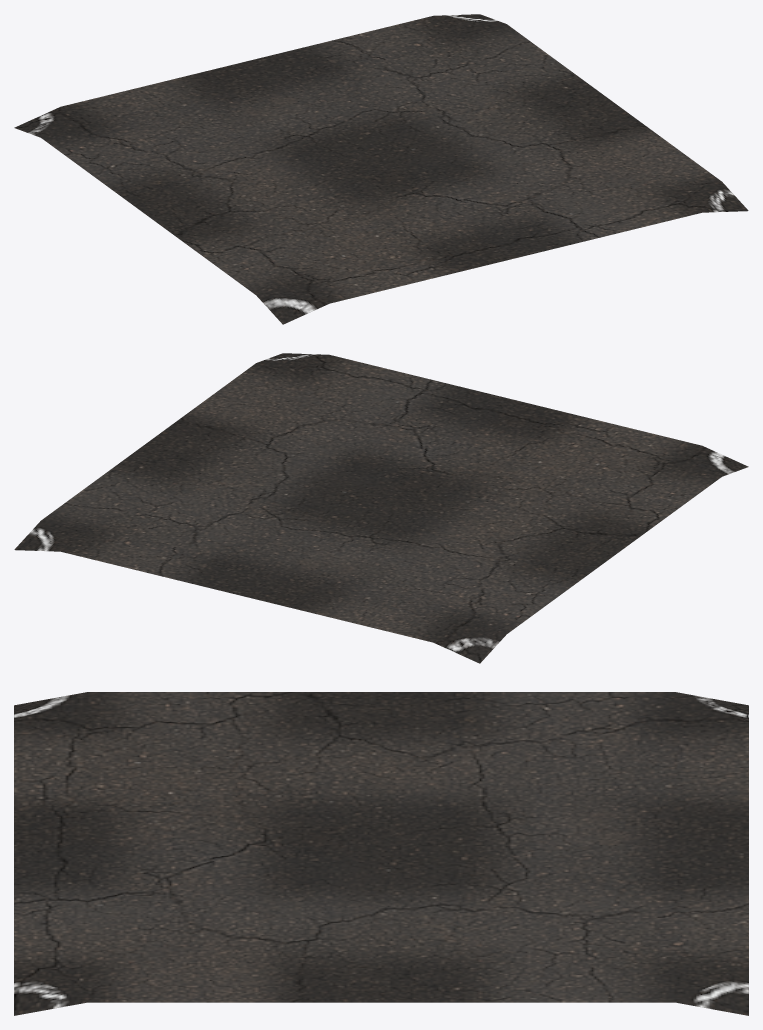
The model's file is Road_05.glb.
The picture shows the model from 3 angles, top to bottom: view 1: azimuth 30°, elevation 25°; view 2: azimuth 150°, elevation 25°; view 3: azimuth 270°, elevation 25°; orthographic projection. The views are drawn at different scales.
Parts seen in each view (by area): view 1: Road_05.001; view 2: Road_05.001; view 3: Road_05.001.
Boxes of the visible parts, x1=… form: Road_05.001: x1=14, y1=14, x2=748, y2=324; Road_05.001: x1=14, y1=353, x2=748, y2=663; Road_05.001: x1=14, y1=692, x2=748, y2=1015.
Size of the model in its own units: 10 by 0.2 by 10.
Materials: 1 (1 with a texture image).
